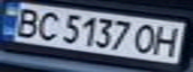1: (78, 15, 96, 47)
3: (93, 16, 115, 50)
5: (57, 11, 84, 45)
7: (112, 18, 136, 52)
B: (6, 6, 45, 38)
C: (33, 9, 63, 42)
H: (151, 24, 184, 57)
O: (130, 21, 163, 55)
